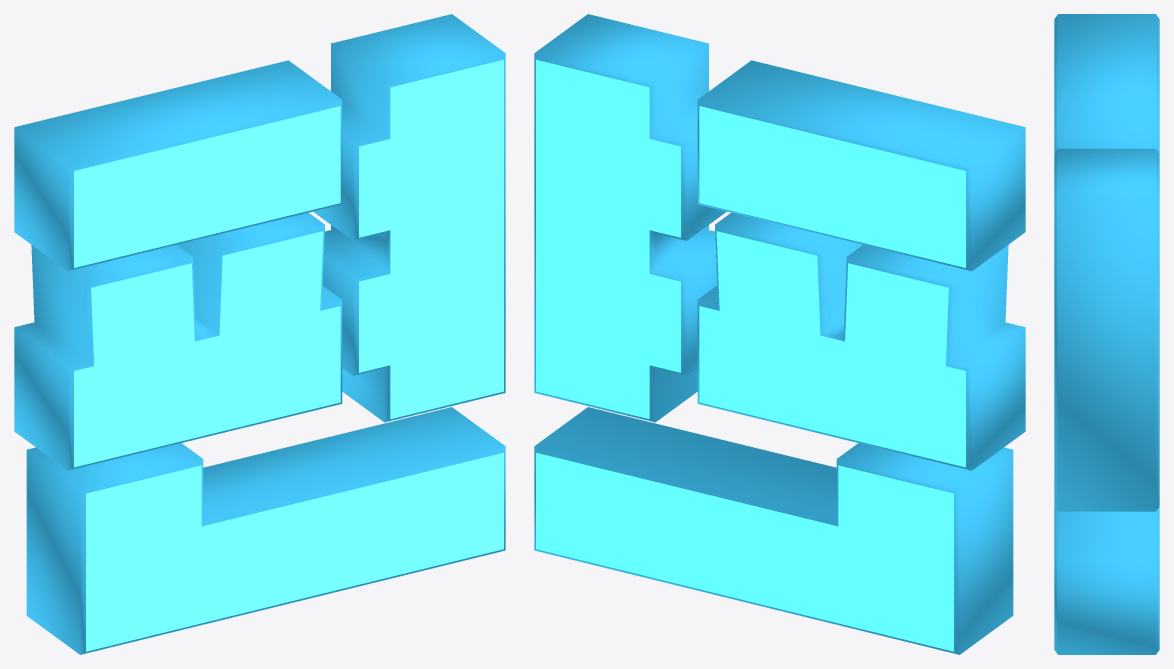
The picture shows the model from 3 angles, left to right: view 1: azimuth 30°, elevation 25°; view 2: azimuth 150°, elevation 25°; view 3: azimuth 270°, elevation 25°; orthographic projection. The views are drawn at different scales.
Visible parts, largest first — view 1: glyph; view 2: glyph; view 3: glyph.
Boxes of the visible parts, <box> form: glyph: <box>14,14,505,654</box>; glyph: <box>534,14,1025,654</box>; glyph: <box>1054,14,1159,654</box>.
Bounding box in the file's own units: 0.0706 × 0.0768 × 0.0162.
